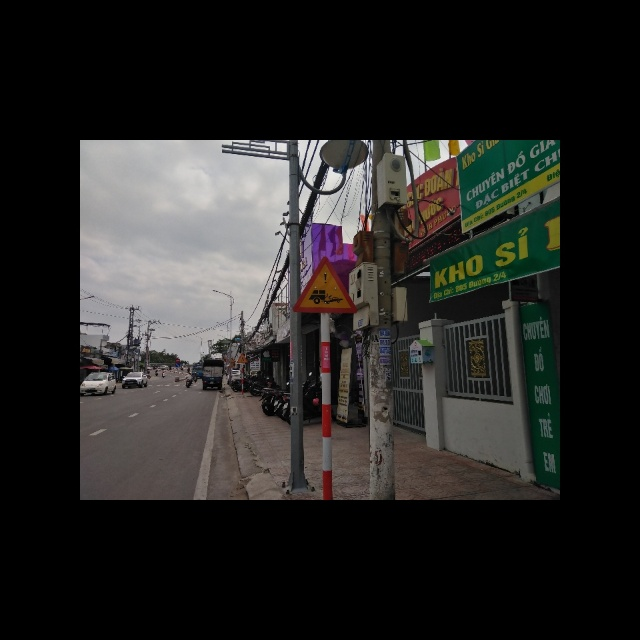Đoạn đường hay xảy ra tai nạn: (294, 257, 358, 315)
Đường đôi: (236, 352, 249, 364)
